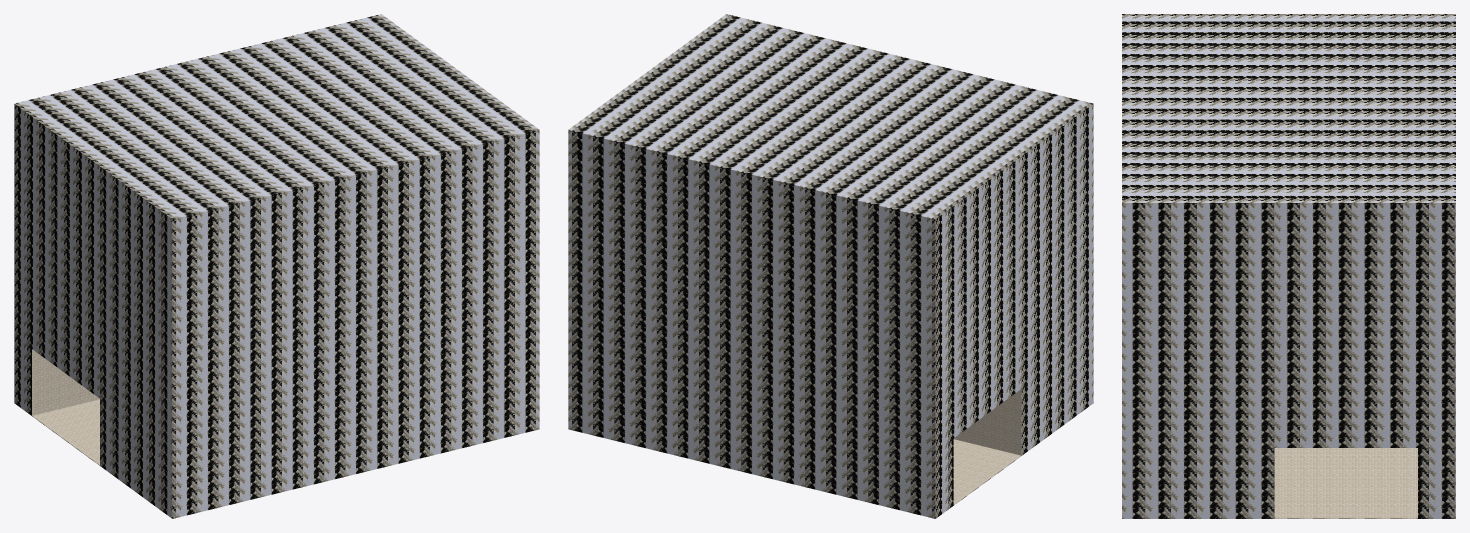
The model's file is Final_brush.glb.
3 views of the same model, side by side, from view 1: azimuth 30°, elevation 25°; view 2: azimuth 150°, elevation 25°; view 3: azimuth 270°, elevation 25° (orthographic). The views are drawn at different scales.
Visible parts, largest first — view 1: Final; view 2: Final; view 3: Final.
Part boxes in pixels (box(x1,y1,x2,y2)): Final: box(14, 14, 539, 518); Final: box(568, 14, 1093, 518); Final: box(1122, 14, 1455, 518).
Size of the model in its own units: 4444 by 3462 by 3316.
16 materials, 16 textured.
